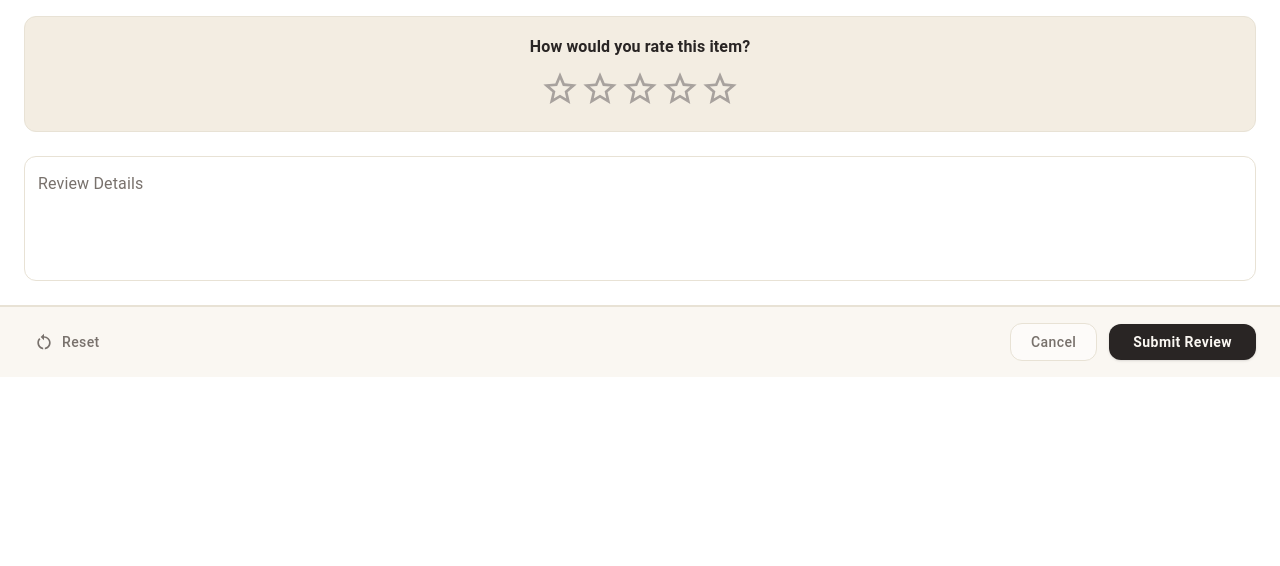
Test case: ReviewForm › should show validation errors when submitting empty form
Click the button "Submit Review": coordinates (1183, 342) [1109, 324, 1256, 360]
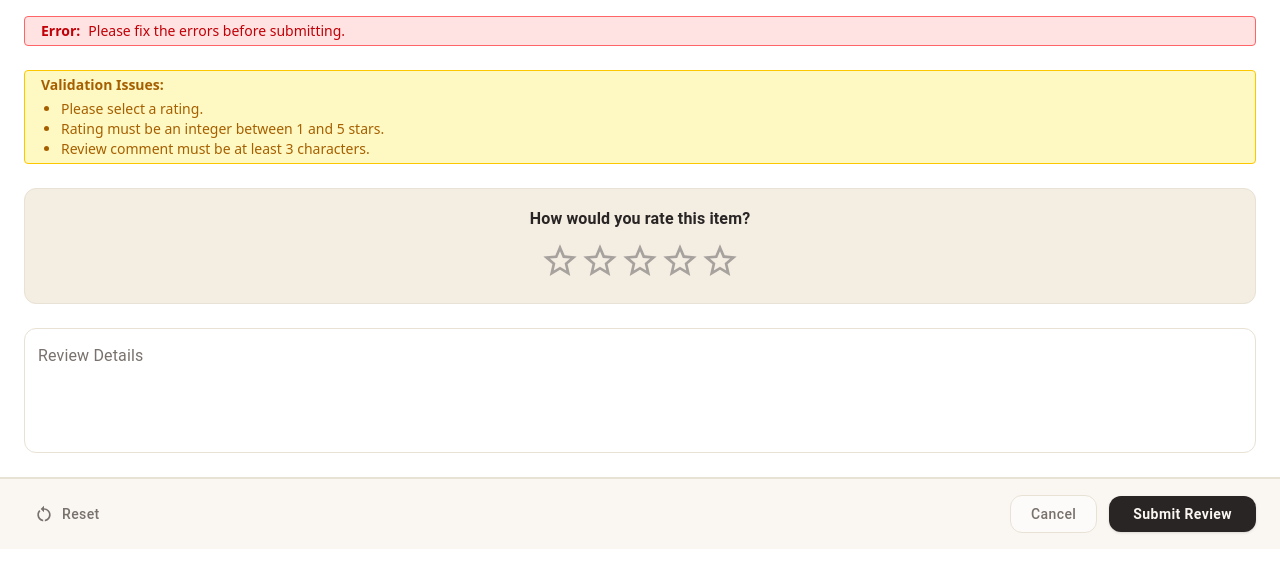
Now the text "Please fix the errors before submitting." is shown, box [80, 21, 345, 40]
